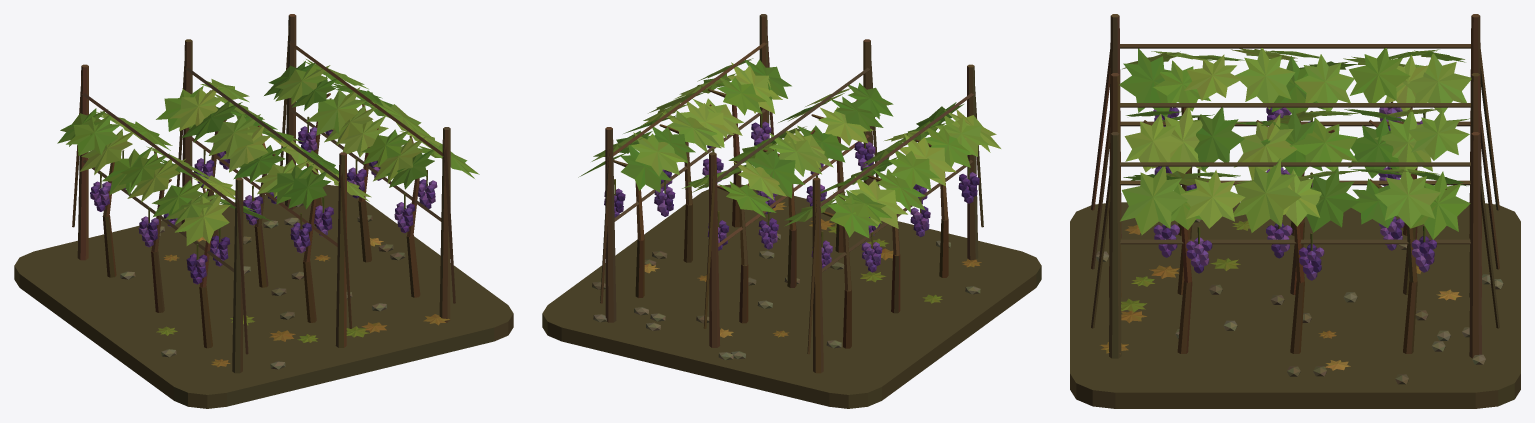
File: vignoble_grand.glb
3 views of the same model, side by side, from view 1: azimuth 30°, elevation 25°; view 2: azimuth 150°, elevation 25°; view 3: azimuth 270°, elevation 25° (orthographic). The views are drawn at different scales.
Visible parts, largest first — view 1: Sous_bois, Feuilles_et_grappes, Ceps_et_palissage; view 2: Sous_bois, Feuilles_et_grappes, Ceps_et_palissage; view 3: Sous_bois, Feuilles_et_grappes, Ceps_et_palissage.
Boxes of the visible parts, bbox=[...] form: Sous_bois: bbox=[14, 184, 513, 408]; Feuilles_et_grappes: bbox=[57, 59, 479, 367]; Ceps_et_palissage: bbox=[72, 14, 455, 373]; Sous_bois: bbox=[542, 184, 1041, 408]; Feuilles_et_grappes: bbox=[578, 58, 1000, 337]; Ceps_et_palissage: bbox=[600, 14, 983, 373]; Sous_bois: bbox=[1070, 202, 1520, 408]; Feuilles_et_grappes: bbox=[1100, 48, 1471, 370]; Ceps_et_palissage: bbox=[1091, 14, 1499, 358].
Bounding box in the file's own units: 0.5 × 0.294 × 0.5.
